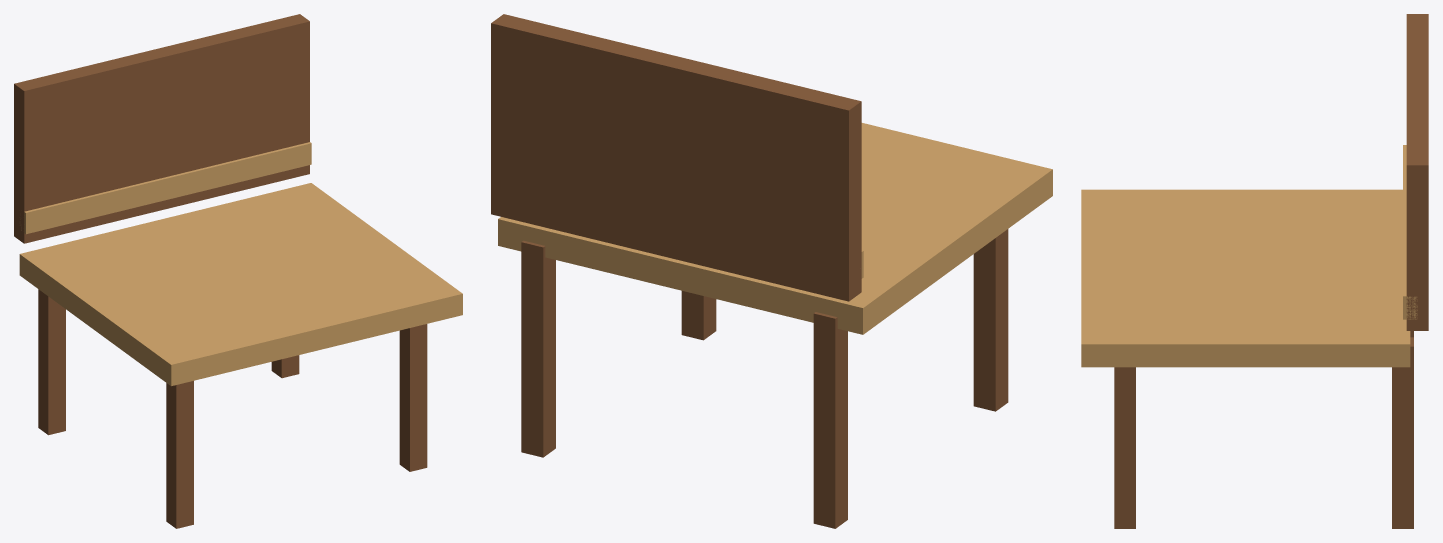
The model's file is chair.gltf.
The picture shows the model from 3 angles, left to right: view 1: azimuth 30°, elevation 25°; view 2: azimuth 150°, elevation 25°; view 3: azimuth 270°, elevation 25°; orthographic projection. The views are drawn at different scales.
Visible parts, largest first — view 1: seat, back, leg (×3), slat; view 2: back, seat, leg (×4); view 3: seat, back, leg (×2), slat.
Part boxes in pixels (x1=…): seat: x1=19, y1=183, x2=462, y2=386; back: x1=14, y1=14, x2=309, y2=243; leg (×3): x1=38, y1=289, x2=427, y2=528; slat: x1=20, y1=142, x2=311, y2=234; back: x1=491, y1=14, x2=861, y2=301; seat: x1=498, y1=123, x2=1052, y2=334; leg (×4): x1=521, y1=229, x2=1008, y2=528; seat: x1=1081, y1=189, x2=1410, y2=367; back: x1=1406, y1=14, x2=1428, y2=330; leg (×2): x1=1114, y1=337, x2=1413, y2=528; slat: x1=1403, y1=145, x2=1417, y2=319.
Size of the model in its own units: 1 by 1.13 by 0.95.
